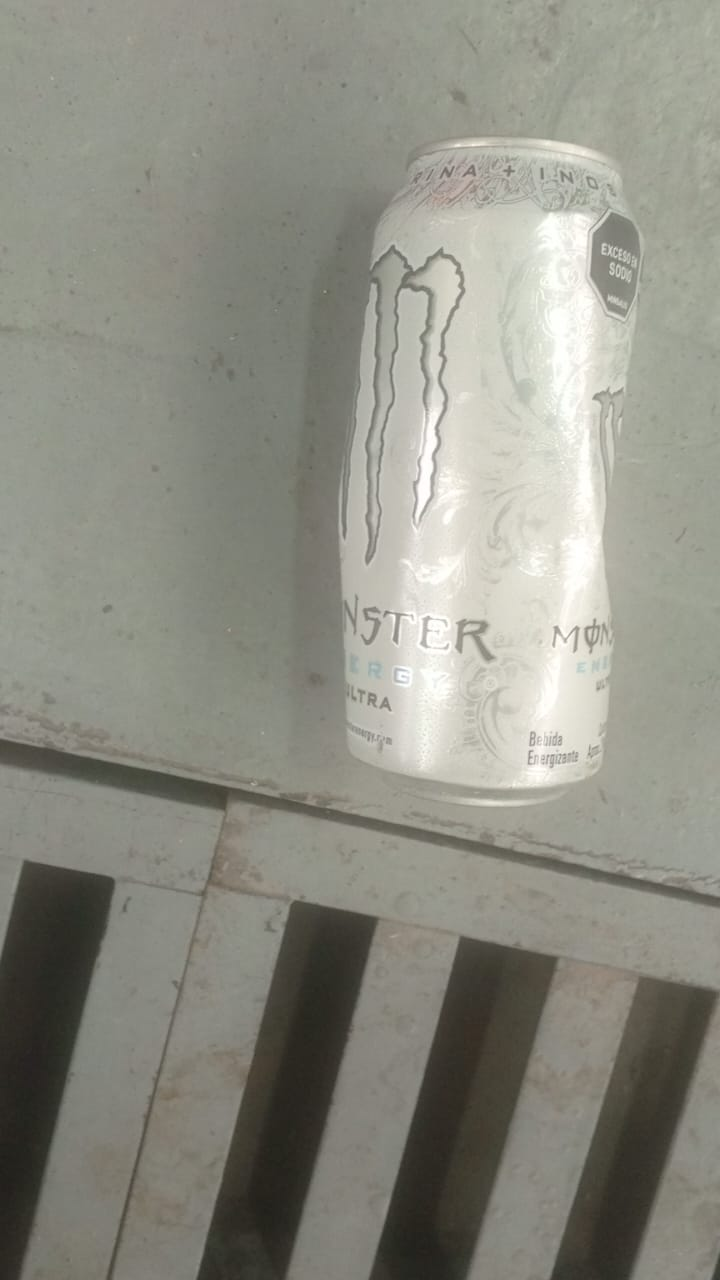Metal: (336, 139, 641, 812)
